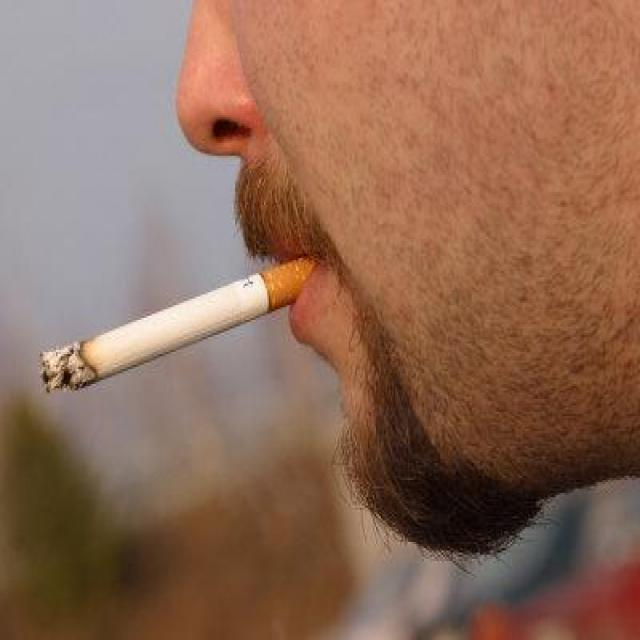cigarette: (39, 229, 316, 418)
